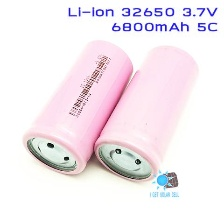battery: (18, 36, 136, 179), (90, 39, 202, 186)
